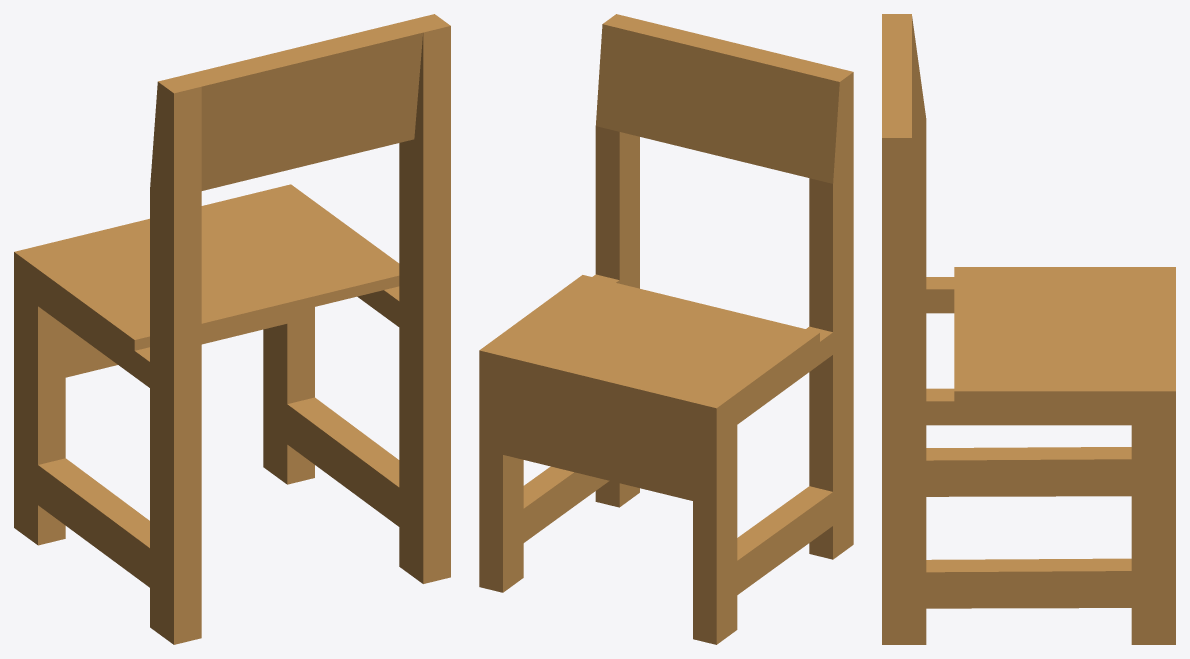
Rendered from kursi.fbx.
3 renders of one model, left to right at view 1: azimuth 30°, elevation 25°; view 2: azimuth 150°, elevation 25°; view 3: azimuth 270°, elevation 25°, orthographic. The views are drawn at different scales.
Visible parts, largest first — view 1: Cube.001; view 2: Cube.001; view 3: Cube.001.
Part boxes in pixels (bbox=[...]): Cube.001: bbox=[14, 14, 450, 644]; Cube.001: bbox=[479, 14, 853, 644]; Cube.001: bbox=[882, 14, 1175, 644].
Bounding box in the file's own units: 200 × 381 × 200.
